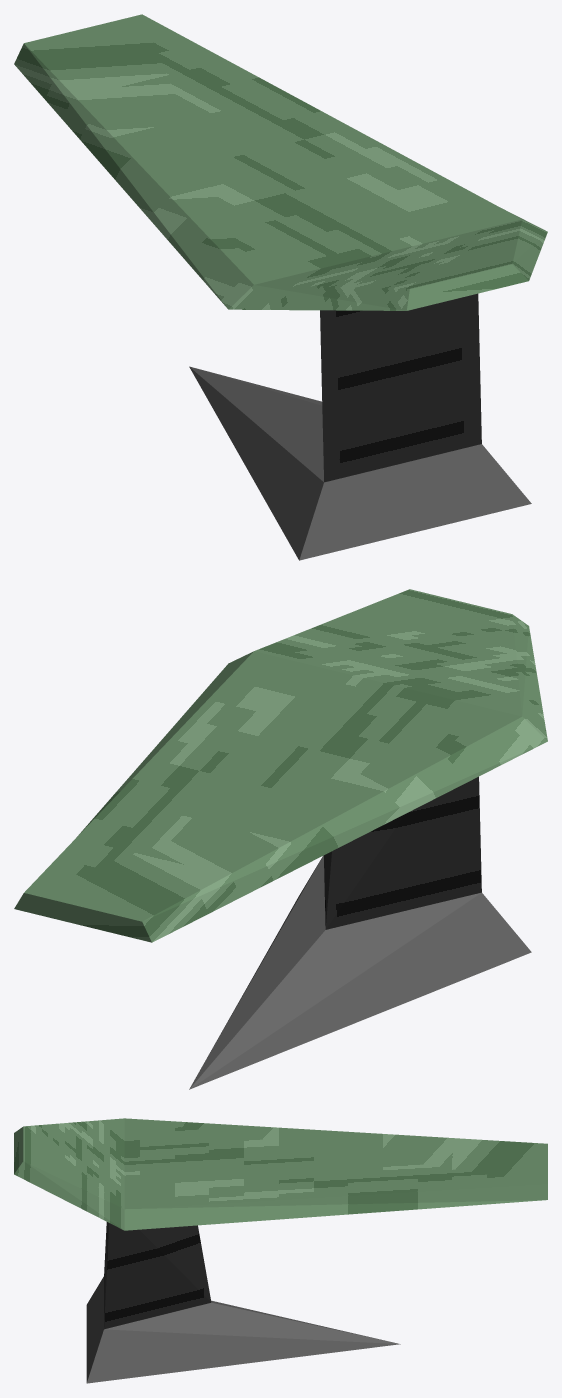
3 renders of one model, top to bottom at view 1: azimuth 30°, elevation 25°; view 2: azimuth 150°, elevation 25°; view 3: azimuth 270°, elevation 25°, orthographic. The views are drawn at different scales.
Parts seen in each view (by area): view 1: ss3d_24_hosp_bed; view 2: ss3d_24_hosp_bed; view 3: ss3d_24_hosp_bed.
Part boxes in pixels (bbox=[...]): ss3d_24_hosp_bed: bbox=[14, 14, 547, 560]; ss3d_24_hosp_bed: bbox=[14, 589, 547, 1089]; ss3d_24_hosp_bed: bbox=[14, 1118, 547, 1383].
Bounding box in the file's own units: 0.5695 × 0.4922 × 1.19.
1 material, 1 textured.
